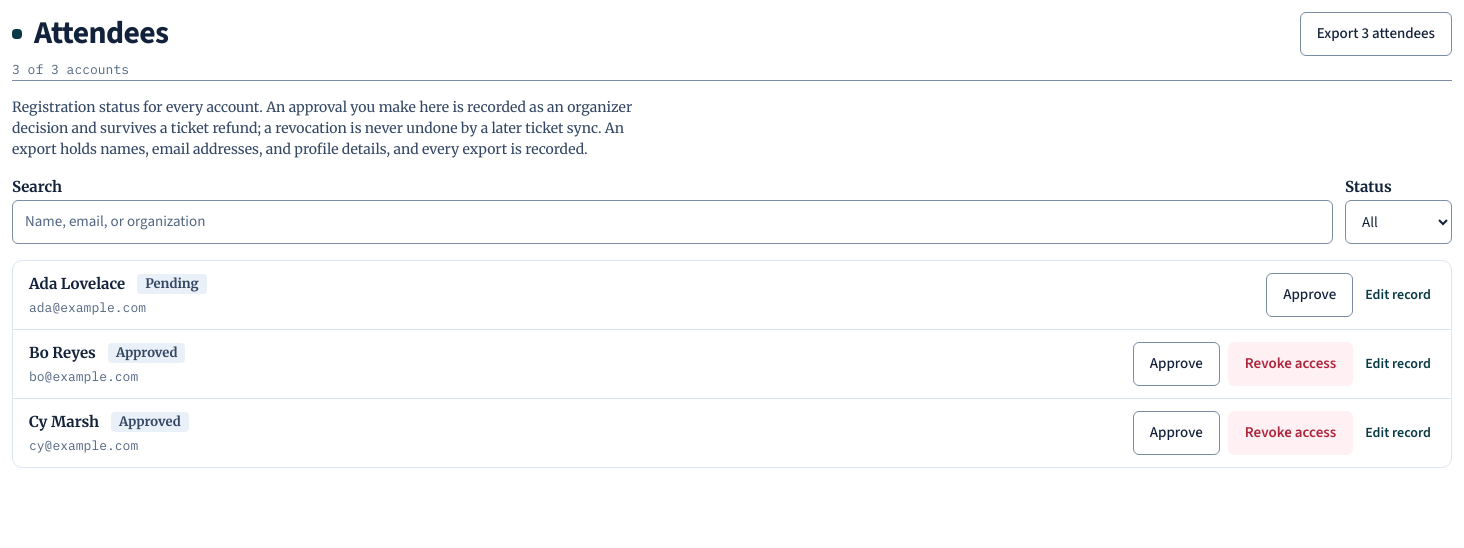
Test case: AdminAttendees export › shows a refusal in the server’s words and saves nothing
The width and height of the screenshot is (1464, 548).
Step 1. Click the button "Export 3 attendees" → (1376, 34), box left=1300, top=12, right=1452, bottom=56
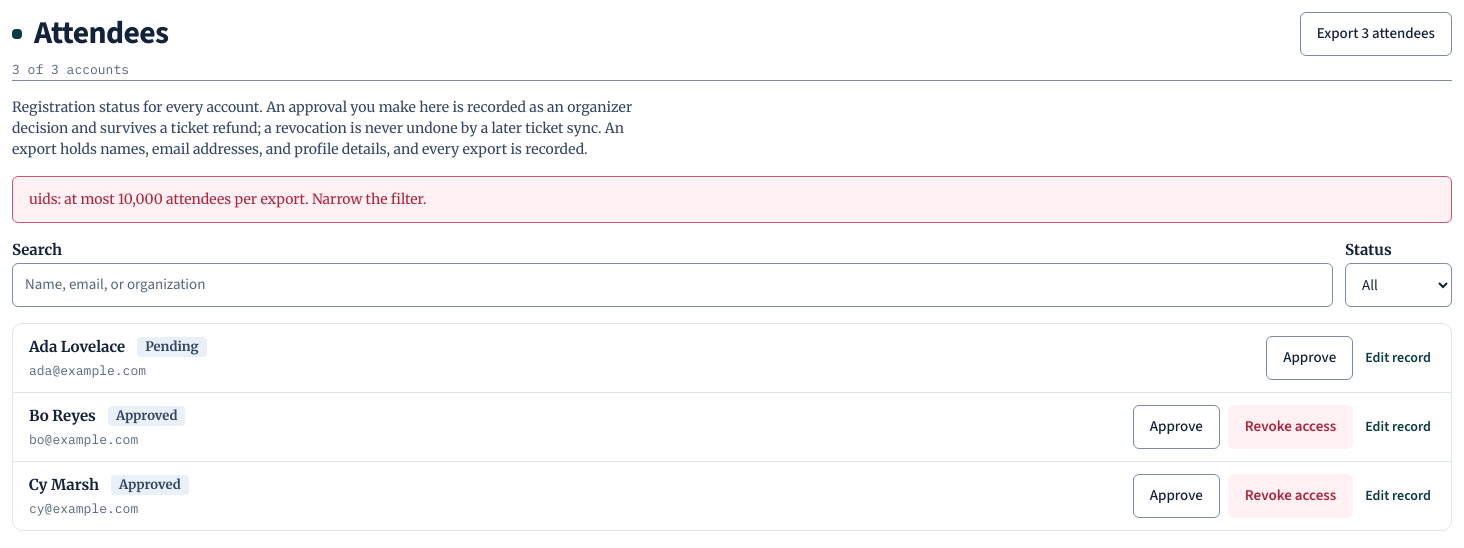
Check: the message reads "uids: at most 10,000 attendees per export. Narrow the filter.", box left=29, top=190, right=427, bottom=208
